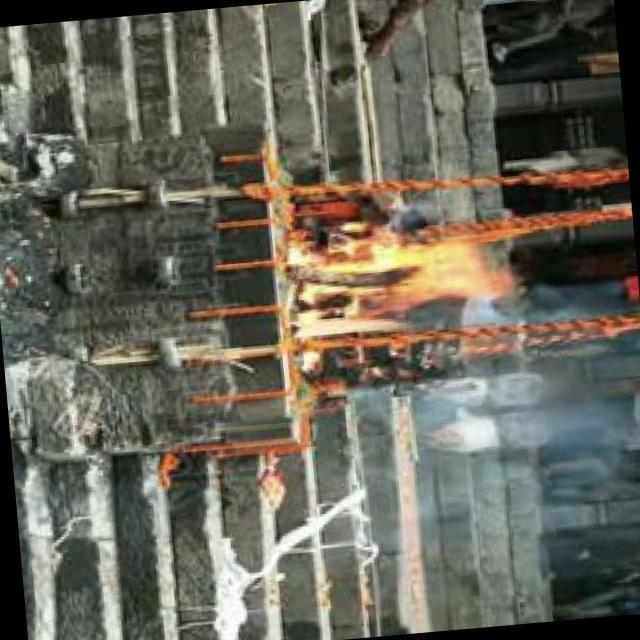Fire: (278, 214, 511, 351)
